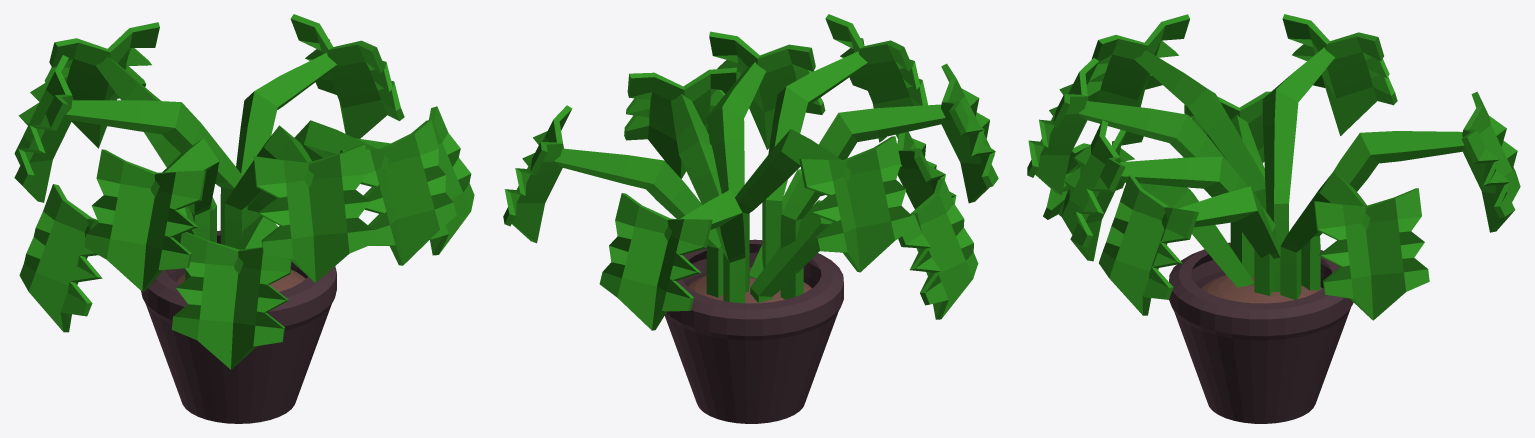
File: MonsteraSmall.fbx
3 views of the same model, side by side, from view 1: azimuth 30°, elevation 25°; view 2: azimuth 150°, elevation 25°; view 3: azimuth 270°, elevation 25° (orthographic). The views are drawn at different scales.
Visible parts, largest first — view 1: MonsteraSmall; view 2: MonsteraSmall; view 3: MonsteraSmall.
Part boxes in pixels (x1,y1,x2,y2): MonsteraSmall: (14,14,474,423); MonsteraSmall: (503,14,998,423); MonsteraSmall: (1027,14,1520,423).
Size of the model in its own units: 168 by 185 by 129.
